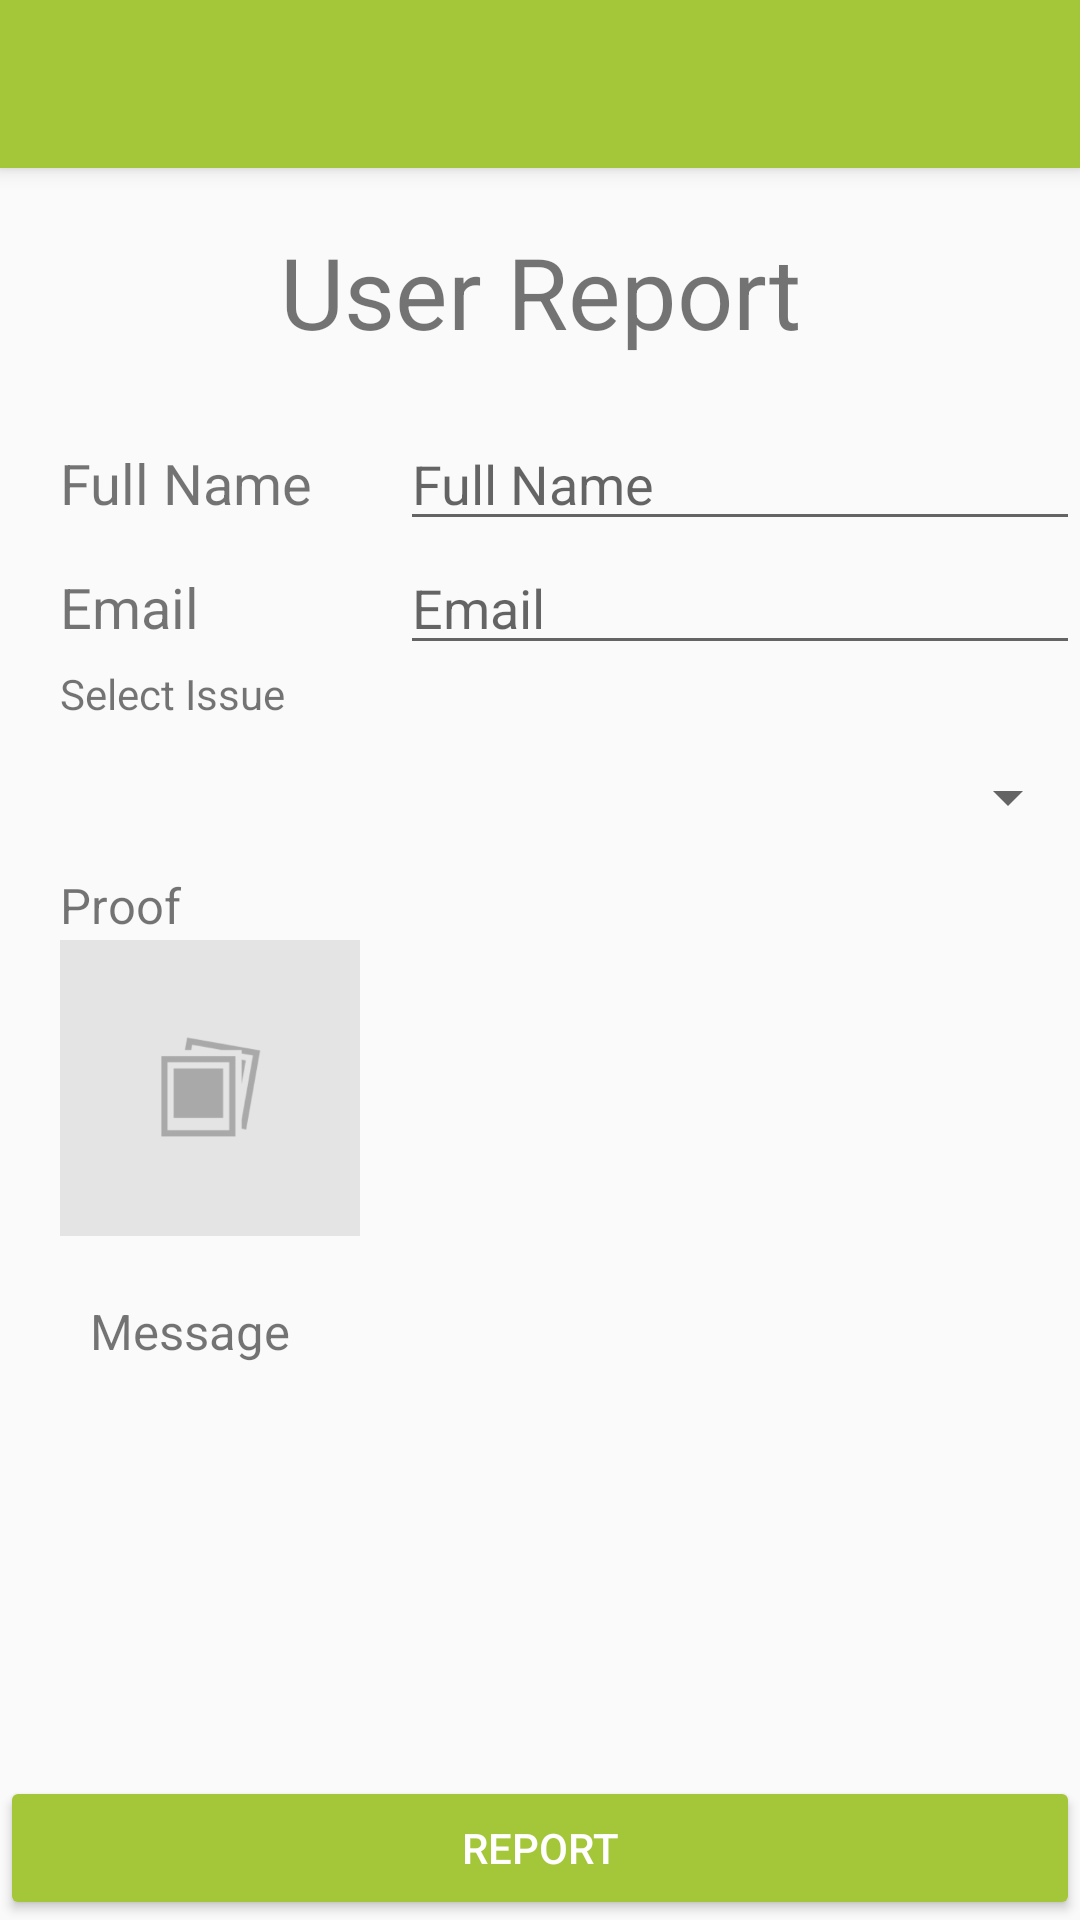

Named icons in this screenshot (1080*1920) and their bounding boxes, Rect(x1, y1, x2, y2):
empty: Rect(161, 1037, 261, 1137)
